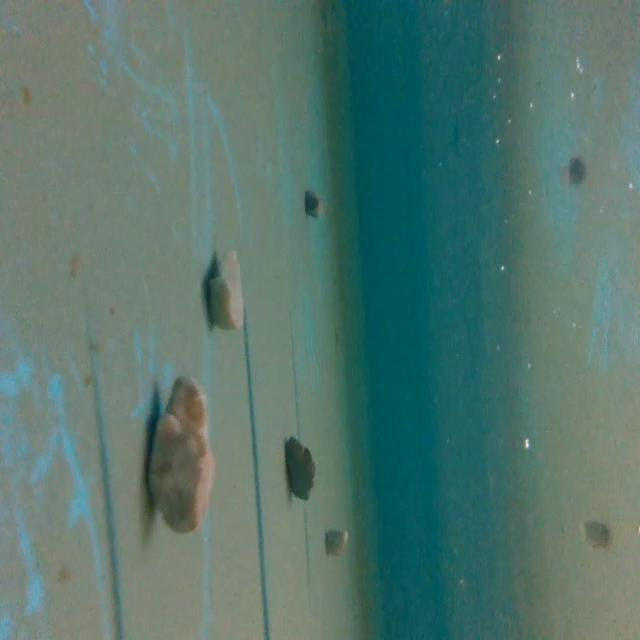rock: (142, 368, 220, 540), (198, 243, 248, 337), (280, 433, 319, 504)
